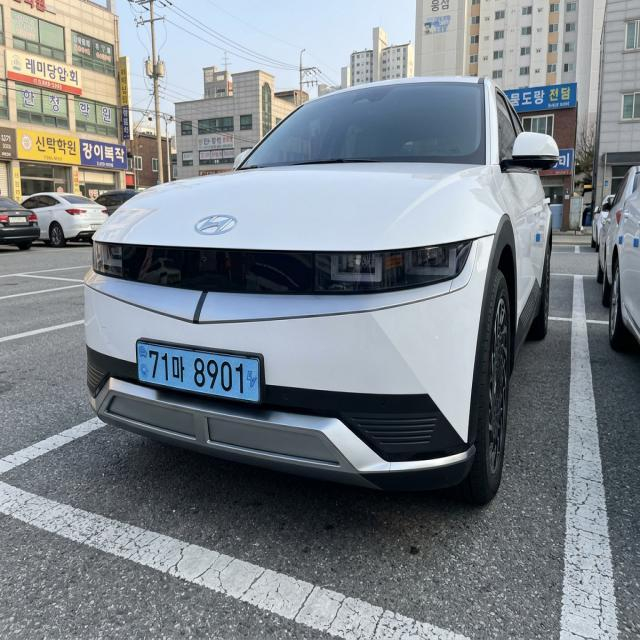car: (129, 330, 277, 414)
carev: (243, 354, 261, 407), (136, 340, 149, 384)
